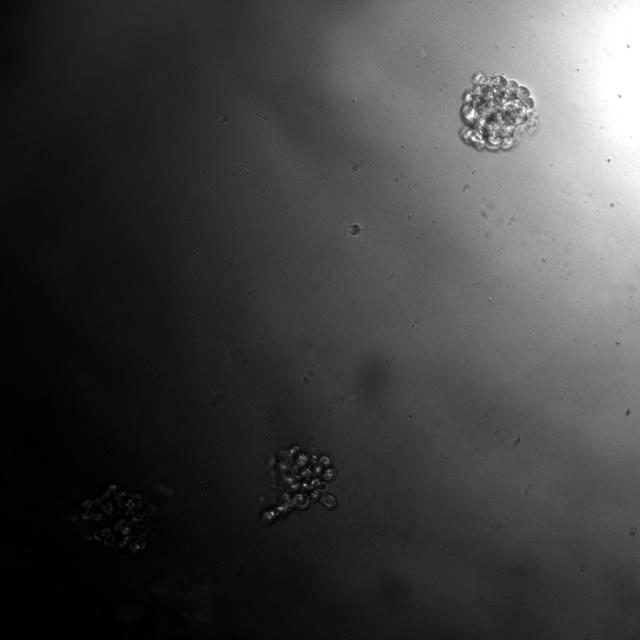organoid: (71, 484, 156, 555), (459, 73, 537, 150), (261, 445, 336, 523)
